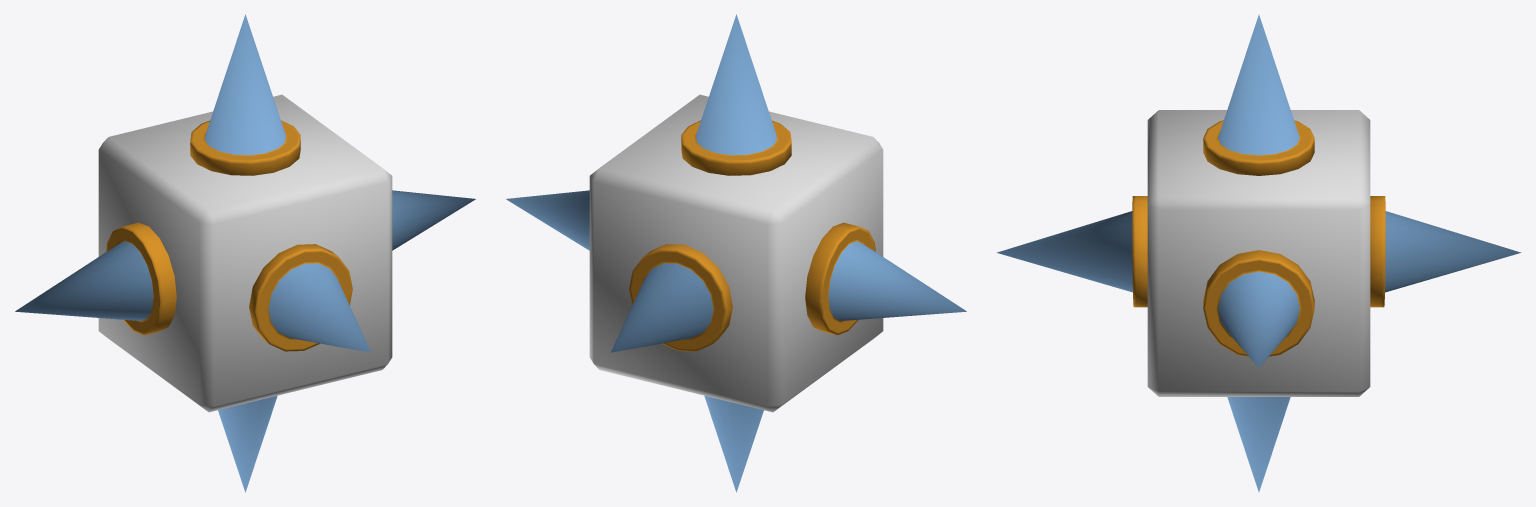
File: КУБ С ШИПАМИ .fbx
The picture shows the model from 3 angles, left to right: view 1: azimuth 30°, elevation 25°; view 2: azimuth 150°, elevation 25°; view 3: azimuth 270°, elevation 25°; orthographic projection.
Parts seen in each view (by area): view 1: Cube.022, Cone.005; view 2: Cube.022, Cone.005; view 3: Cube.022, Cone.005.
Boxes of the visible parts, box(x1,y1,x2,y2) form: Cube.022: box(98, 94, 392, 412); Cone.005: box(15, 14, 475, 492); Cube.022: box(589, 94, 883, 412); Cone.005: box(506, 14, 966, 492); Cube.022: box(1147, 110, 1370, 396); Cone.005: box(997, 15, 1520, 491).
Bounding box in the file's own units: 924 × 915 × 910.
